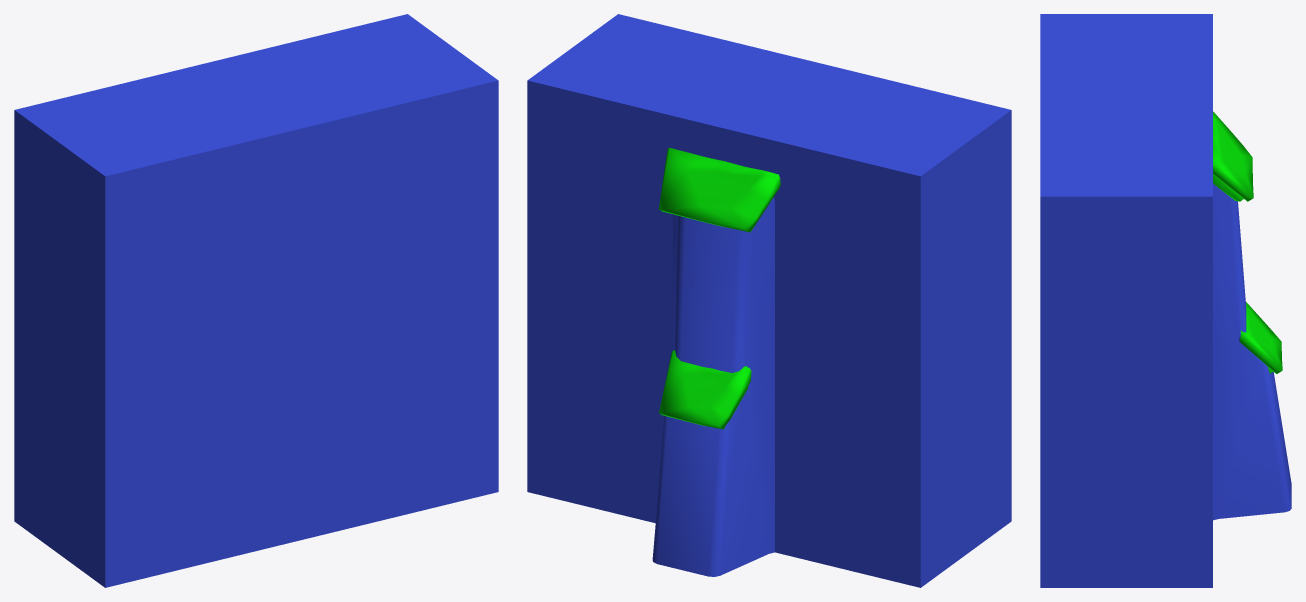
Rendered from Wall3.fbx.
3 renders of one model, left to right at view 1: azimuth 30°, elevation 25°; view 2: azimuth 150°, elevation 25°; view 3: azimuth 270°, elevation 25°, orthographic. The views are drawn at different scales.
Visible parts, largest first — view 1: Wall3; view 2: Wall3; view 3: Wall3.
Boxes of the visible parts, x1=… form: Wall3: x1=14, y1=14, x2=498, y2=587; Wall3: x1=527, y1=14, x2=1011, y2=587; Wall3: x1=1040, y1=14, x2=1291, y2=587.
Size of what is drawn, in the model's own units: 5 by 5 by 2.91.
